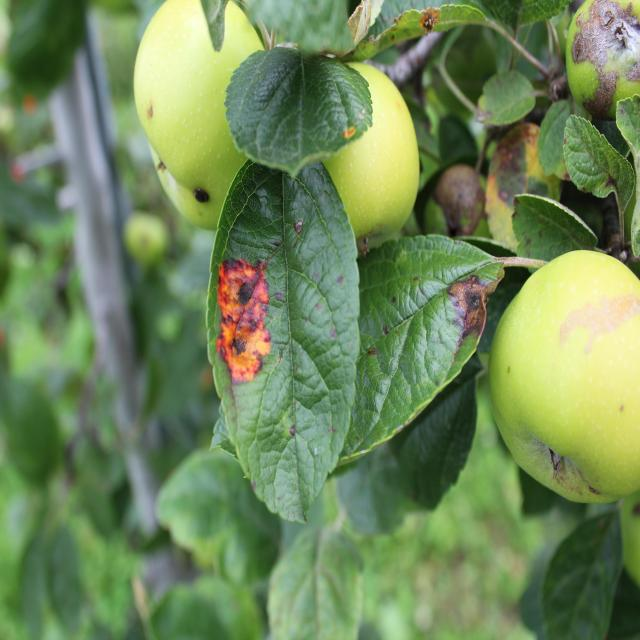Rust: (207, 242, 284, 401)
